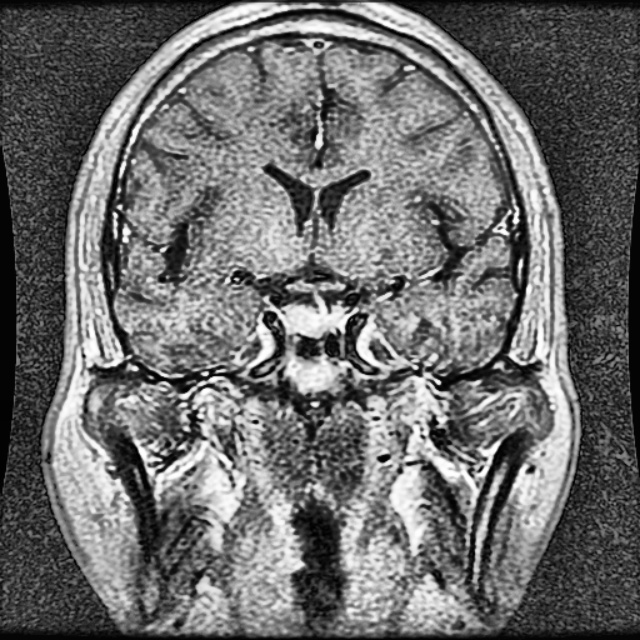Pituitary: (284, 307, 345, 334)
